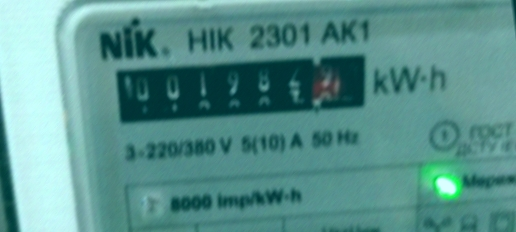0: (162, 69, 183, 100), (132, 70, 152, 101)
1: (194, 65, 210, 96)
2: (284, 56, 305, 87)
8: (254, 61, 273, 91)
9: (315, 58, 339, 88), (223, 64, 242, 95)
screen: (96, 20, 387, 152)
